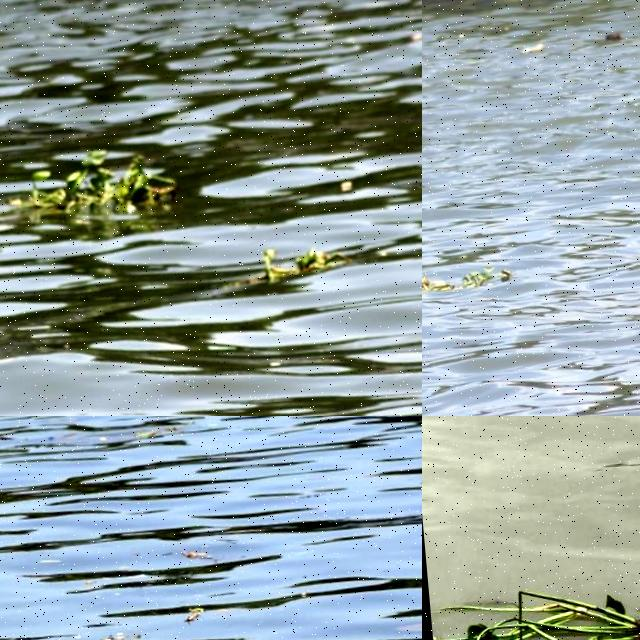water-hyacinth: (431, 555, 640, 640), (13, 140, 169, 228), (423, 247, 522, 306), (260, 242, 343, 281)
